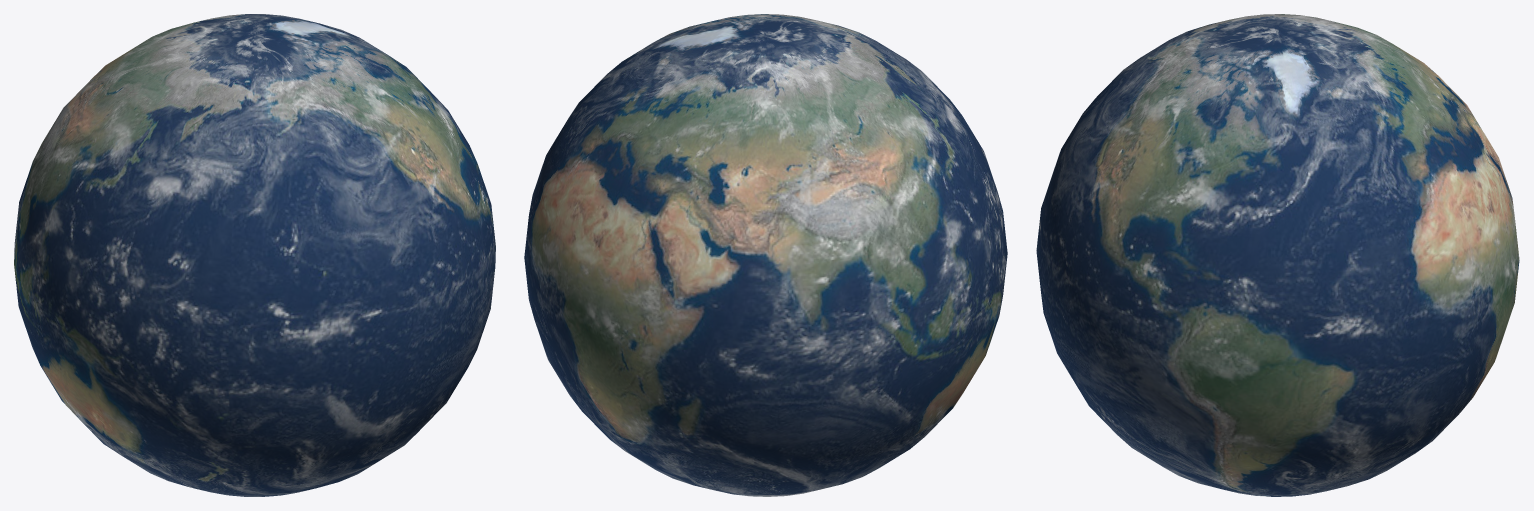
Rendered from earth__astroriah.glb.
3 renders of one model, left to right at view 1: azimuth 30°, elevation 25°; view 2: azimuth 150°, elevation 25°; view 3: azimuth 270°, elevation 25°, orthographic.
Visible parts, largest first — view 1: Object_2; view 2: Object_2; view 3: Object_2.
Part boxes in pixels (x1=…): Object_2: x1=14, y1=14, x2=495, y2=496; Object_2: x1=524, y1=14, x2=1007, y2=496; Object_2: x1=1036, y1=14, x2=1519, y2=496.
Bounding box in the file's own units: 9.79 × 9.8 × 9.79.
1 material, 1 textured.
